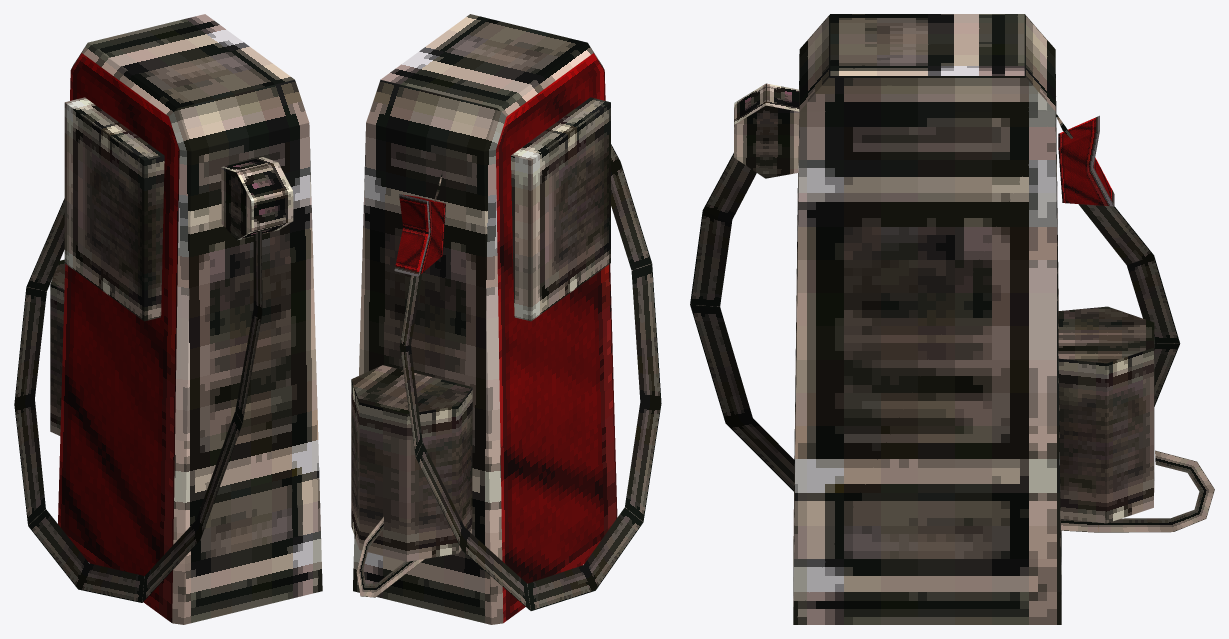
File: prop_gas_pump.glb
3 views of the same model, side by side, from view 1: azimuth 30°, elevation 25°; view 2: azimuth 150°, elevation 25°; view 3: azimuth 270°, elevation 25° (orthographic). The views are drawn at different scales.
Visible parts, largest first — view 1: Gas_pump; view 2: Gas_pump; view 3: Gas_pump.
Boxes of the visible parts, x1,y1,x2,y2 form: Gas_pump: (14,14,322,624); Gas_pump: (351,14,661,624); Gas_pump: (690,14,1214,624).
Bounding box in the file's own units: 0.6976 × 1.84 × 1.61.
Materials: 1 (1 with a texture image).
